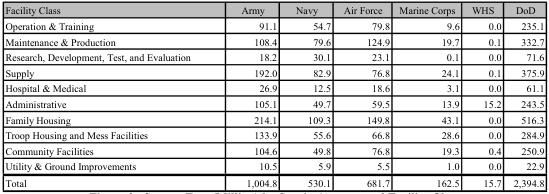table: (4, 4, 543, 187)
table column: (4, 4, 215, 187), (393, 4, 464, 187), (215, 4, 285, 187), (336, 4, 393, 187), (285, 4, 336, 187), (464, 4, 506, 187), (506, 4, 543, 187)
table column header: (4, 4, 543, 17)
table row: (4, 17, 543, 33), (4, 48, 543, 64), (4, 64, 543, 80), (4, 95, 543, 111), (4, 126, 543, 142), (4, 142, 543, 158), (4, 33, 543, 48), (4, 80, 543, 95), (4, 111, 543, 126), (4, 158, 543, 173), (4, 173, 543, 187), (4, 4, 543, 17)
